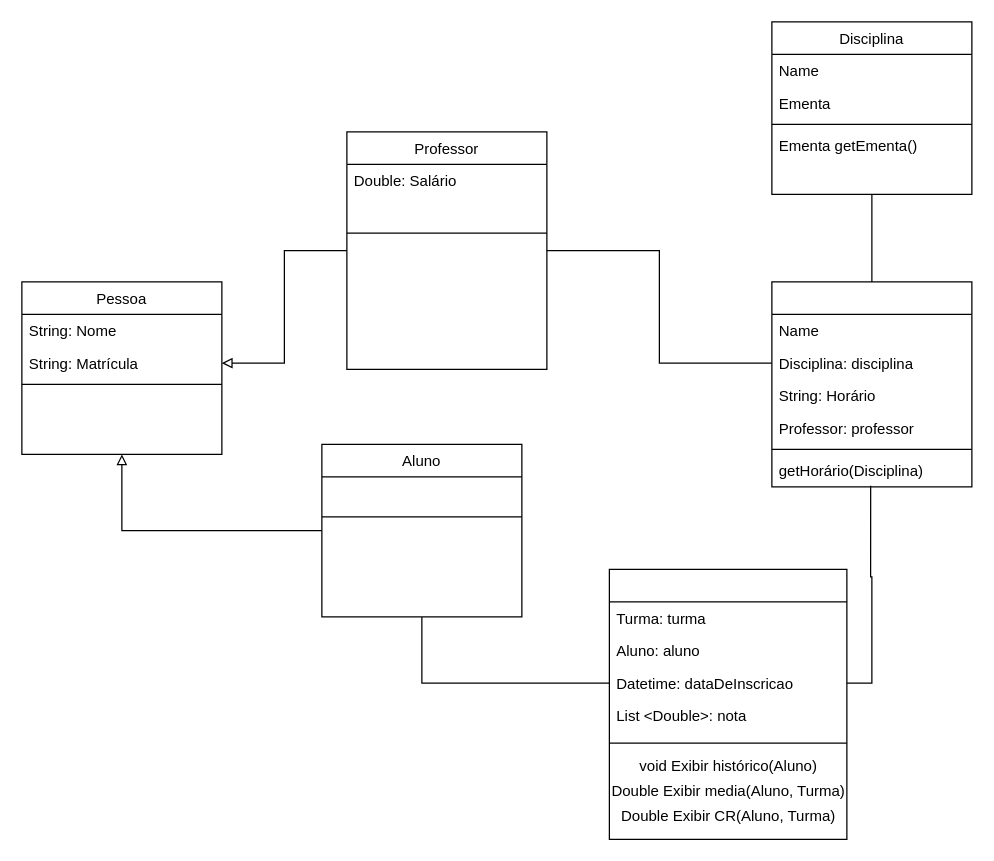
This 994x861 diagram has some shape labels left out. The box of each missing label's shape, as (x1, y1, x2, y2) in pixels:
Inscrição: (608, 568, 847, 839)
Turma: (771, 281, 972, 487)
